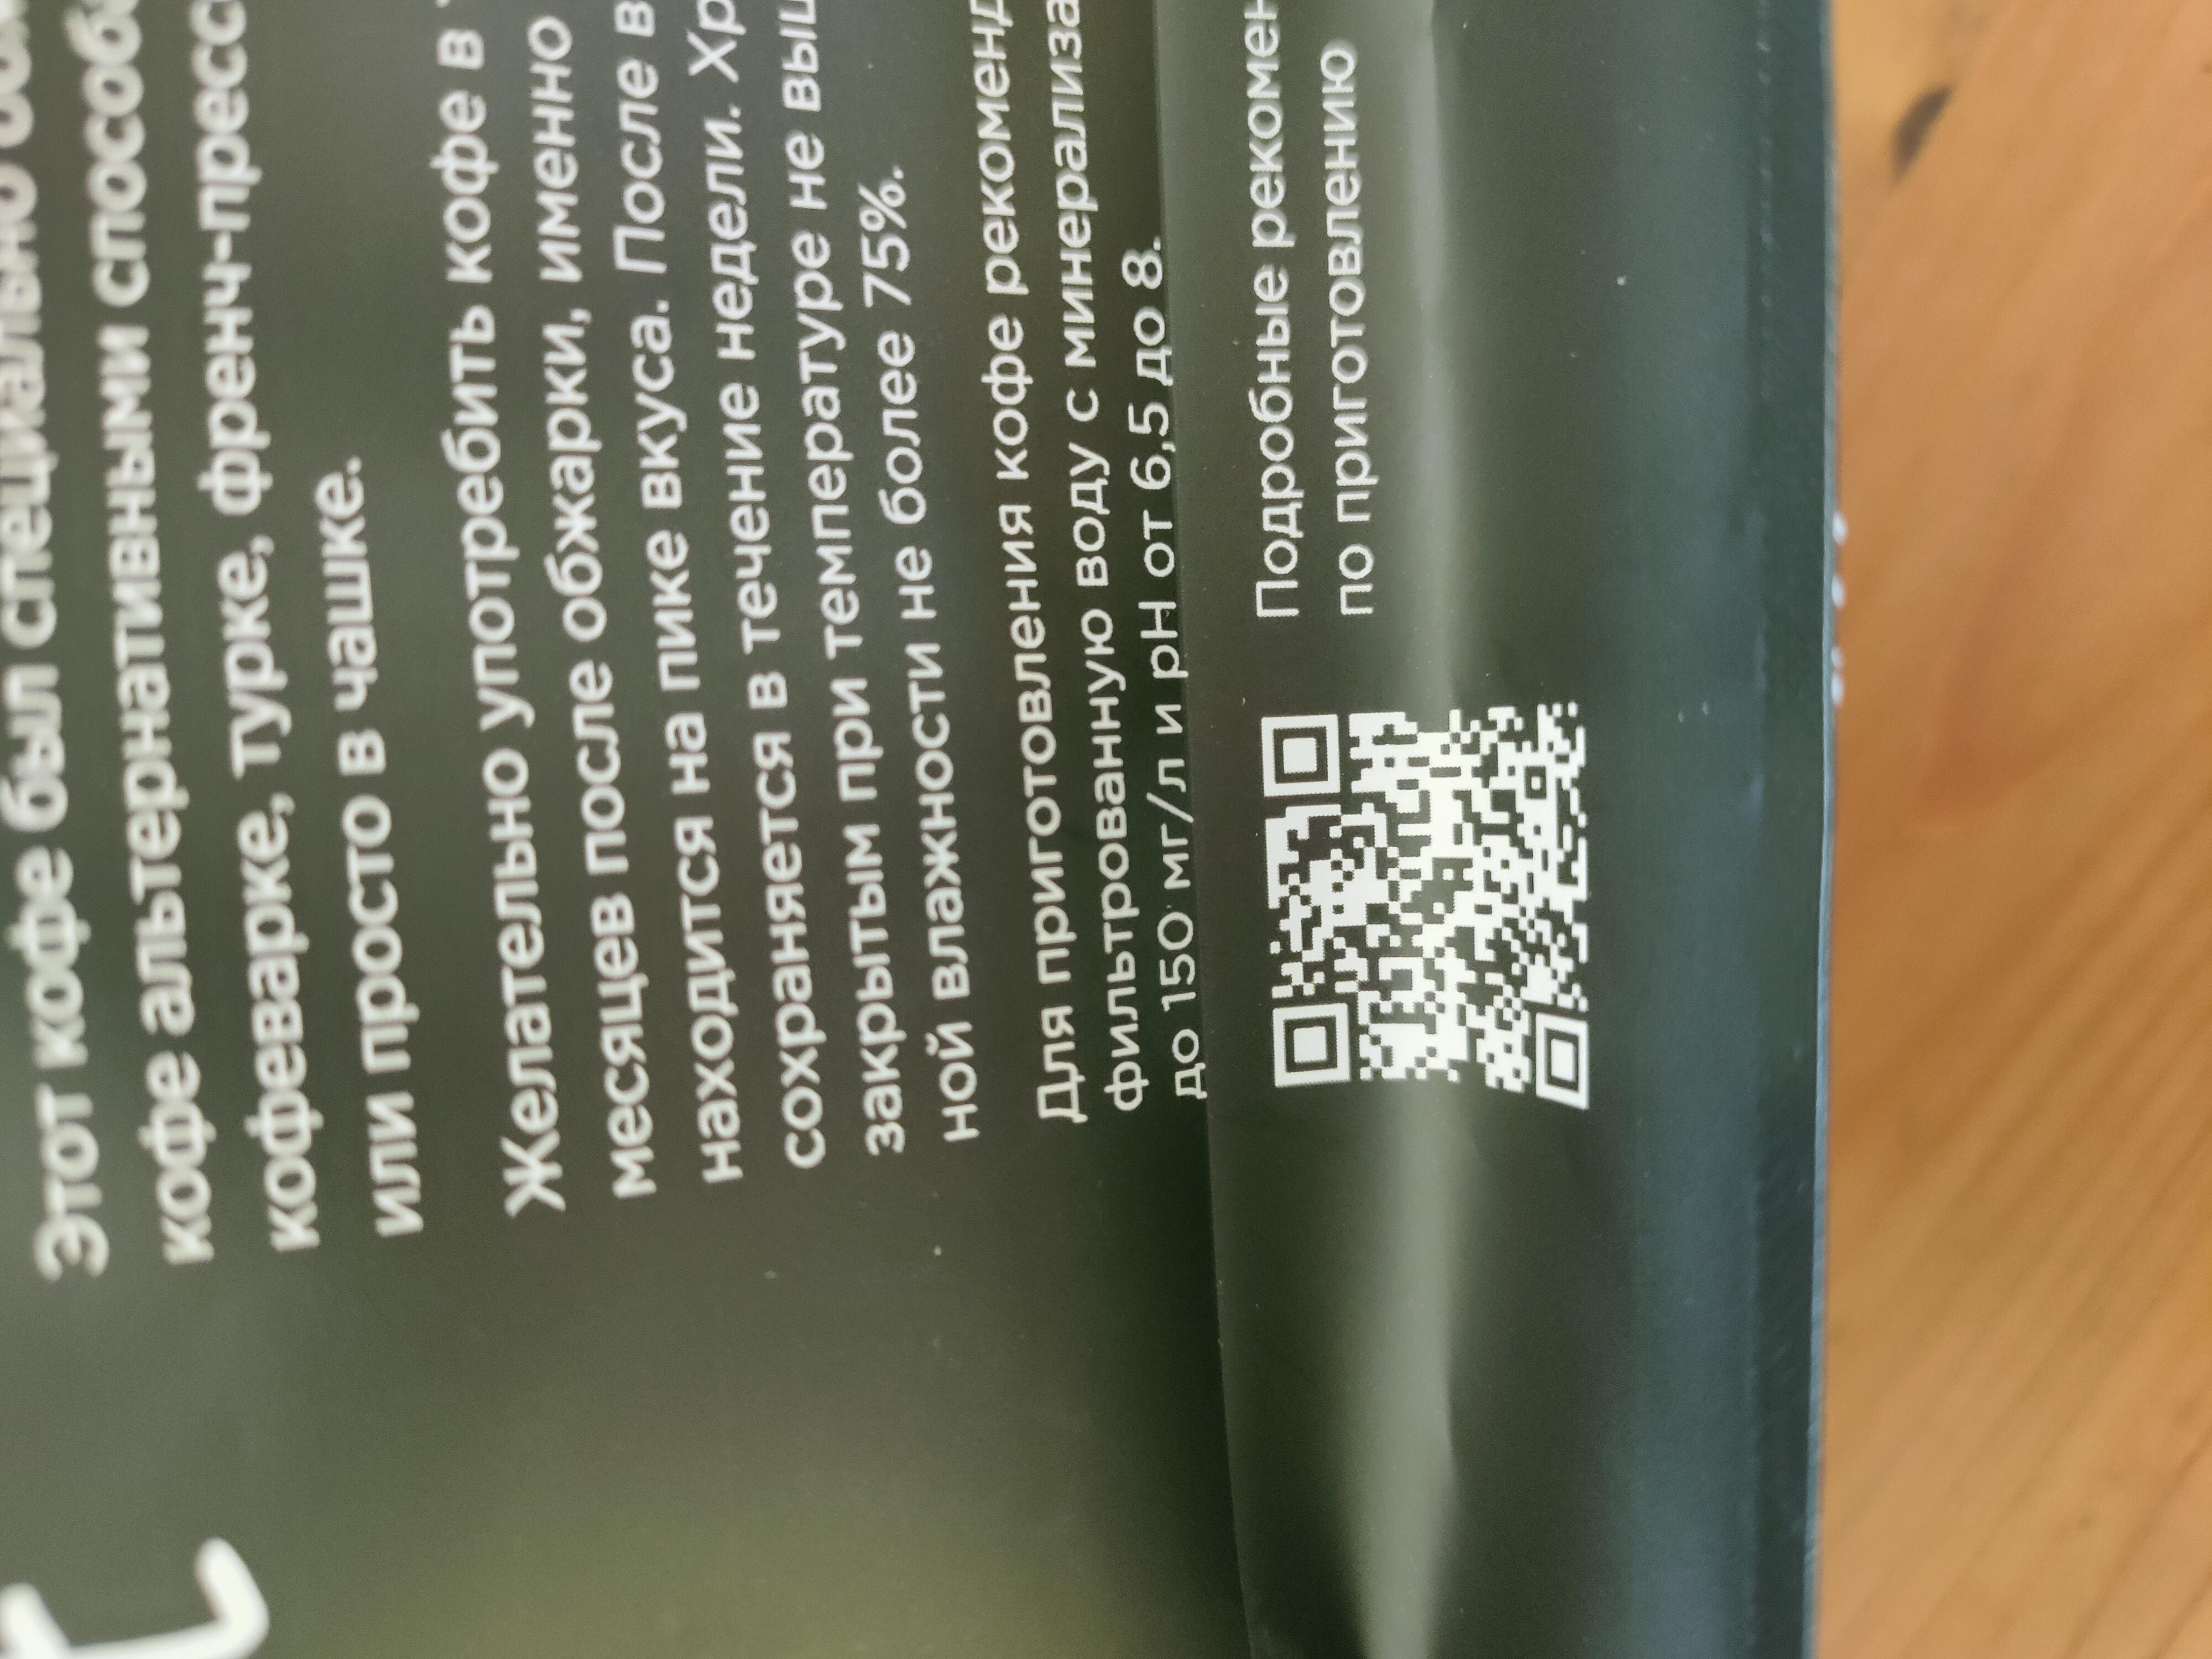qrcode: (1256, 706, 1595, 1117)
